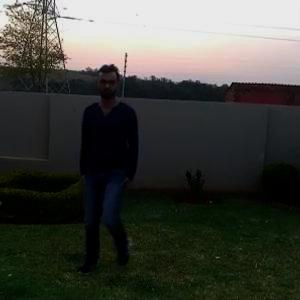follow: (76, 58, 140, 274)
